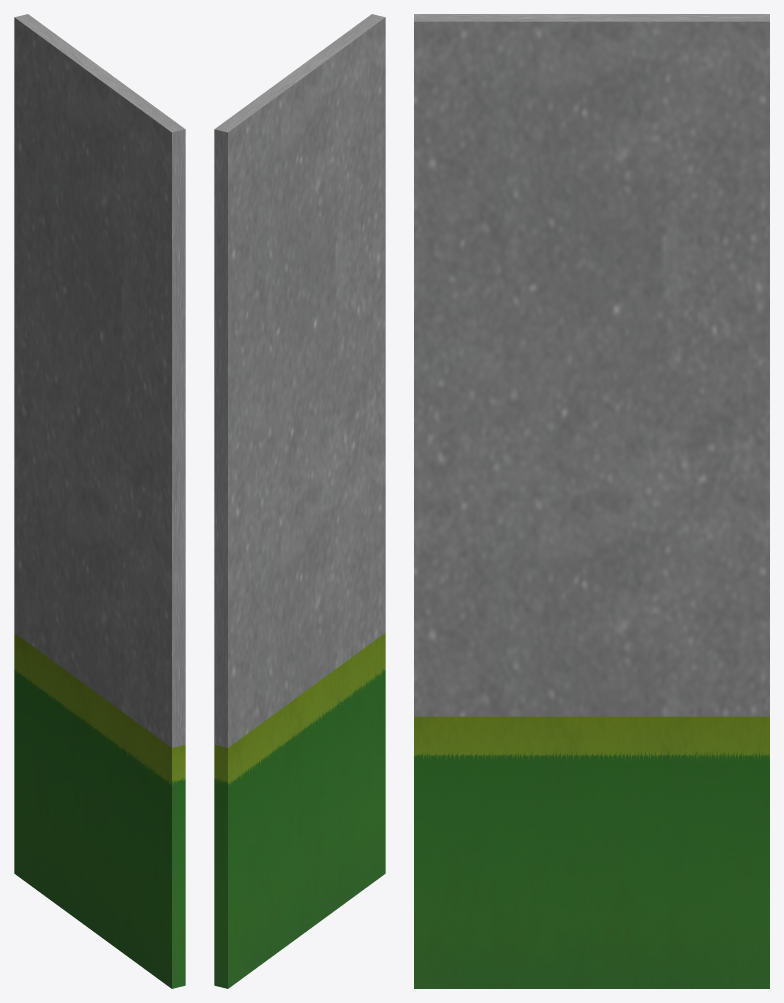
The model's file is Wall_2x6_MidWall.fbx.
3 renders of one model, left to right at view 1: azimuth 30°, elevation 25°; view 2: azimuth 150°, elevation 25°; view 3: azimuth 270°, elevation 25°, orthographic. The views are drawn at different scales.
Parts seen in each view (by area): view 1: Simple Wall 2x6; view 2: Simple Wall 2x6; view 3: Simple Wall 2x6.
Boxes of the visible parts, x1,y1,x2,y2 form: Simple Wall 2x6: [14, 14, 185, 988]; Simple Wall 2x6: [214, 14, 385, 988]; Simple Wall 2x6: [414, 14, 769, 988].
Size of the model in its own units: 10 by 600 by 200.
